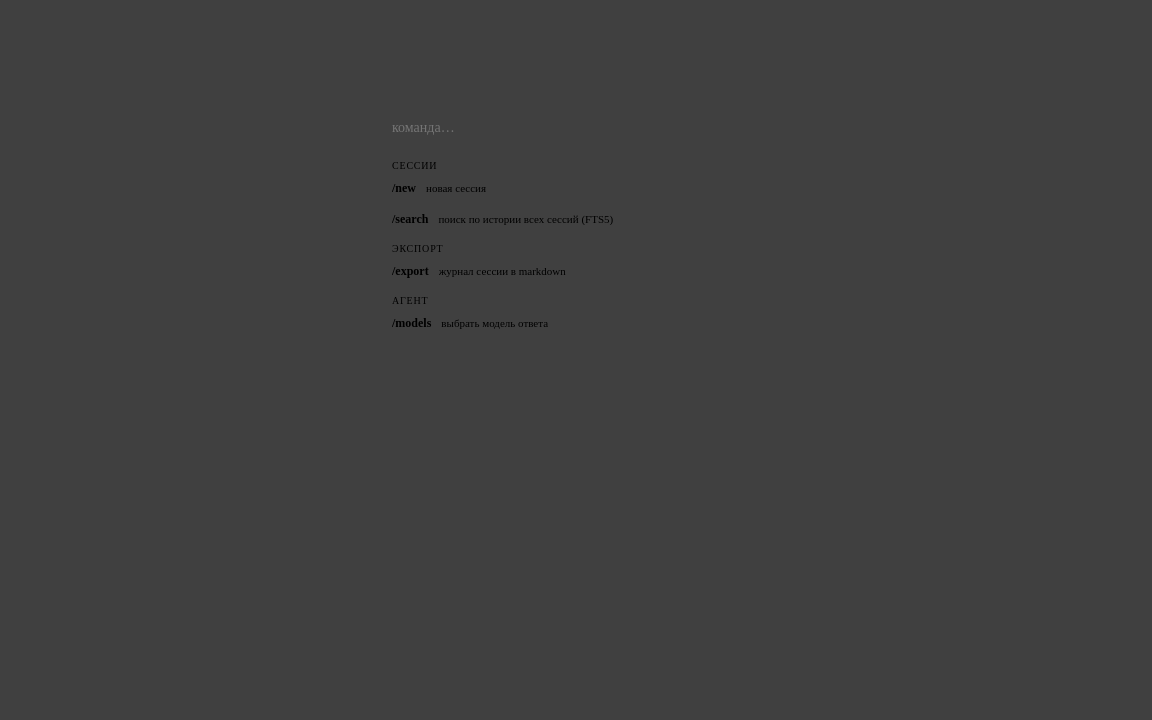
Test: Palette: smoke › ввод оставляет только подходящие команды
In the field with placeholder "команда…": (592, 128) [376, 108, 808, 148], type "sea"
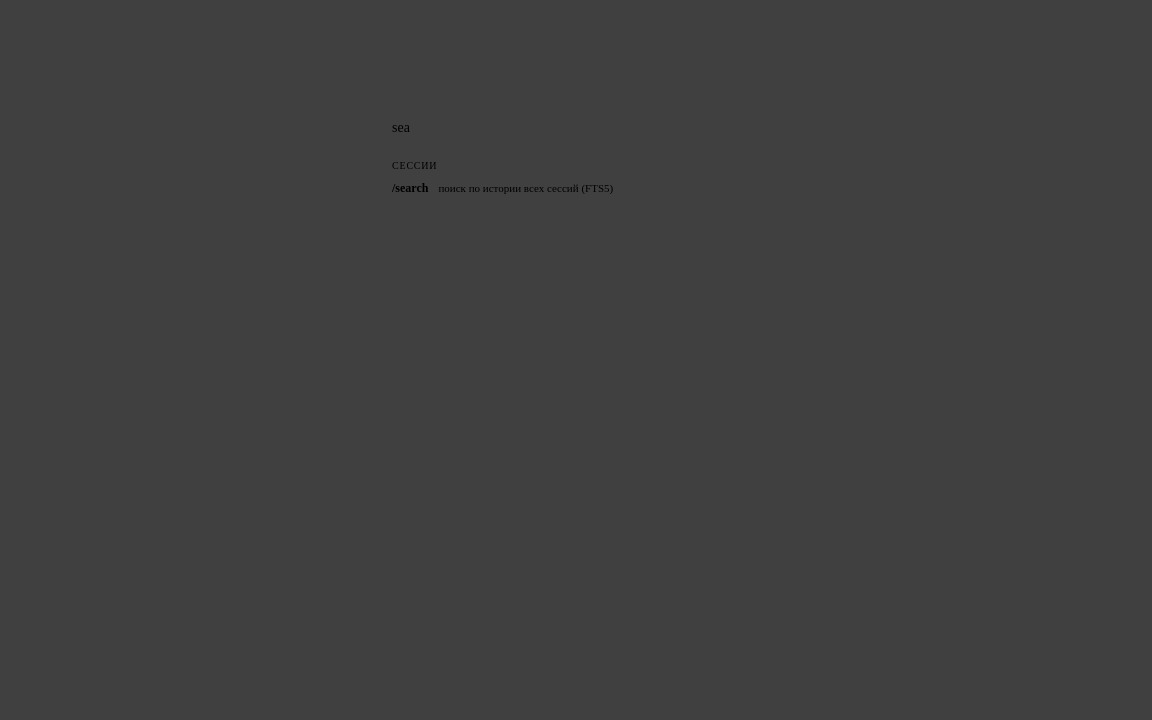
Expected: the option shows "/search", [392, 181, 613, 195]
Expected: the number of options is 1, [392, 181, 613, 195]
